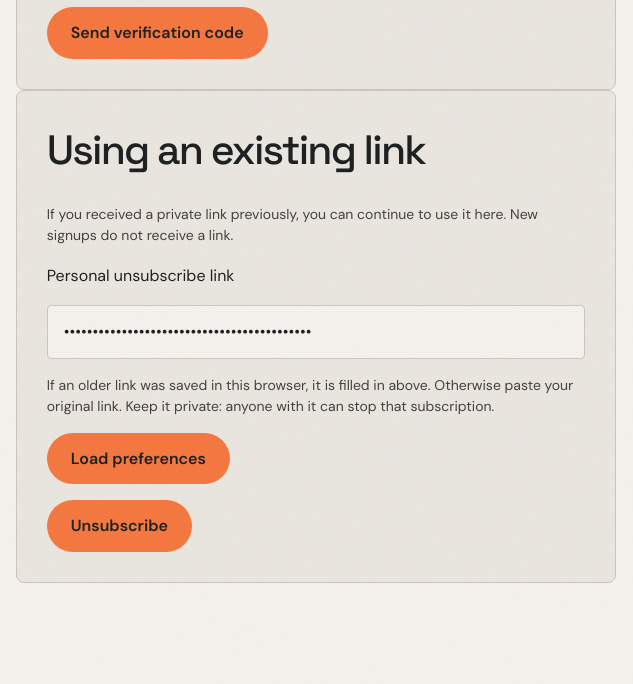
it: loads and saves website purpose answers with a legacy link, clearing Other when deselected
Later steps or results of the test are not shown.
(page scrolled)
Click the button "Load preferences".
click(138, 458)  # box [47, 433, 230, 484]
(page scrolled)
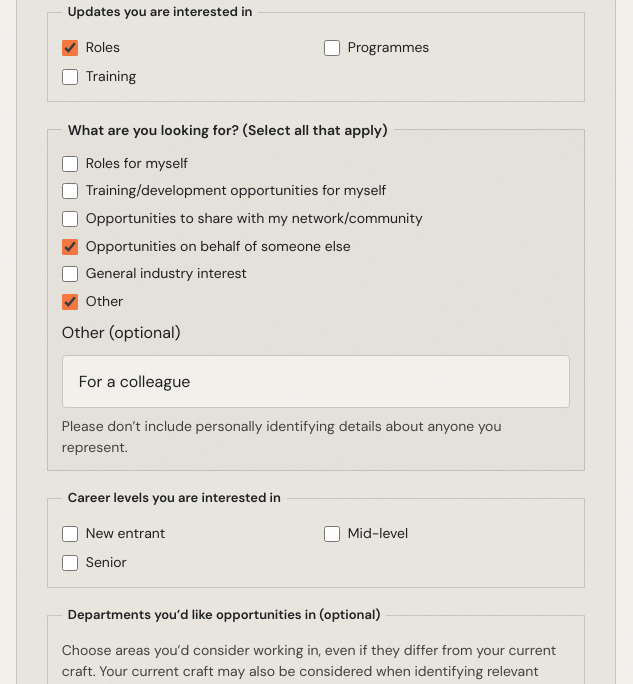
Expected: the checkbox labelled "Opportunities on behalf of someone else" is checked, [62, 239, 78, 255]
Expected: the checkbox labelled "Other" is checked
Expected: the field labelled "Other (optional)" holds "For a colleague", [62, 355, 570, 408]
Click the checkbox labelled "Other".
click(70, 302)  # box [62, 294, 78, 310]
(page scrolled)
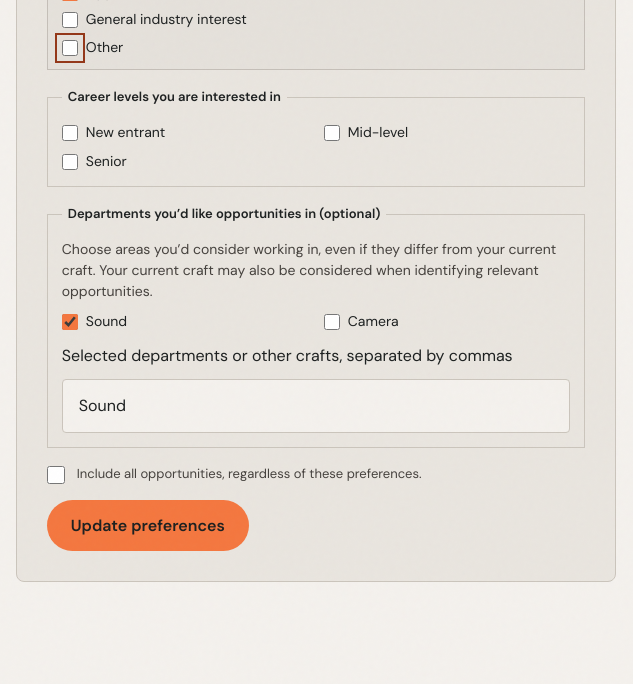
Expected: the label labelled "Other (optional)" is gone
